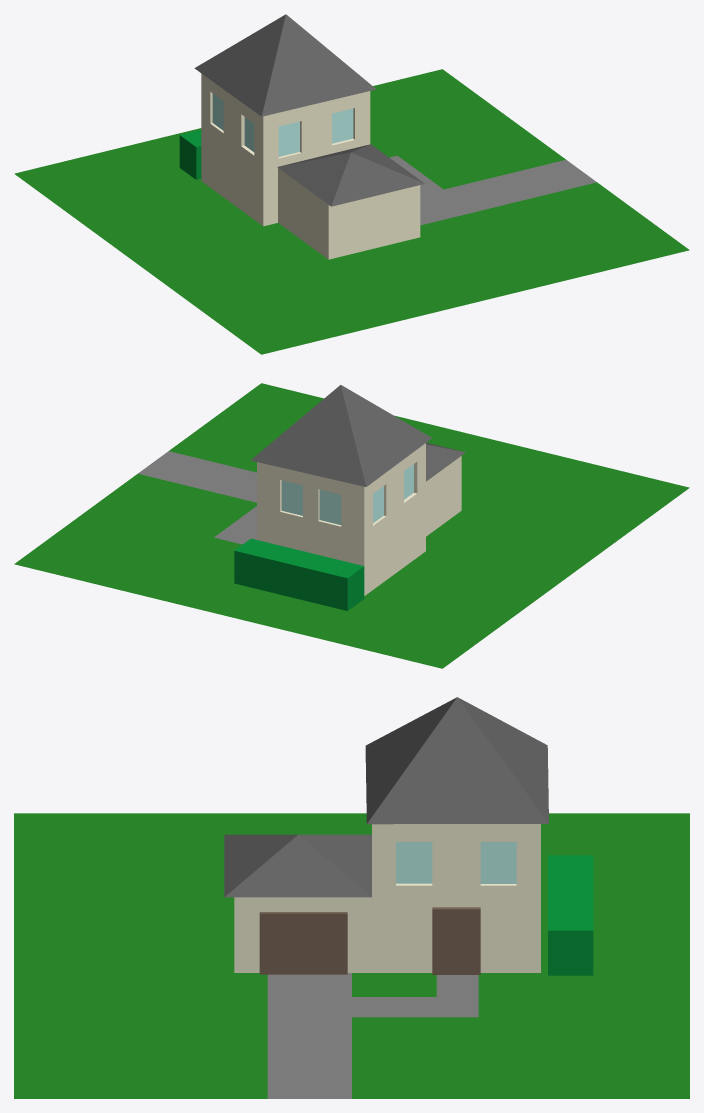
File: House.fbx
3 renders of one model, top to bottom at view 1: azimuth 30°, elevation 25°; view 2: azimuth 150°, elevation 25°; view 3: azimuth 270°, elevation 25°, orthographic. The views are drawn at different scales.
Visible parts, largest first — view 1: pPlane2; view 2: pPlane2; view 3: pPlane2.
Boxes of the visible parts, x1=… form: pPlane2: x1=14, y1=14, x2=689, y2=354; pPlane2: x1=14, y1=383, x2=689, y2=668; pPlane2: x1=14, y1=697, x2=689, y2=1098.
Bounding box in the file's own units: 2 × 0.7896 × 2.
